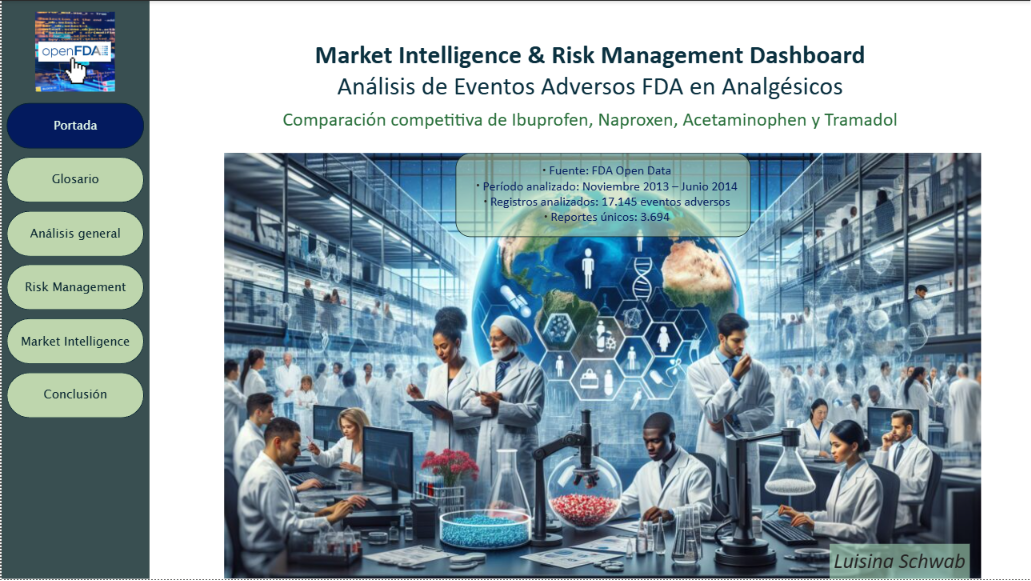

The dashboard page shown, as its layout file describes it:
{"tool":"powerbi","page":{"name":"Portada","canvas":[1280,720],"ordinal":0},"visuals":[{"type":"image","box":[273.7,189.1,947.9,529.9],"z":0},{"type":"shape","box":[0,0,184.1,719],"z":1000},{"type":"pageNavigator","box":[6.2,126.9,171.7,396.8],"z":2000},{"type":"textbox","box":[564.8,189.1,367,104.5],"z":3000},{"type":"image","box":[5,13.7,172.9,99.5],"z":4000},{"type":"textbox","box":[327.2,42.3,809.8,113.2],"z":5000},{"type":"textbox","box":[329.6,126.9,804.8,62.2],"z":6000},{"type":"textbox","box":[1030,675.5,174.2,44.8],"z":7000}]}

Visuals, with their boxes on the page's 1280x720 design canvas (x1, y1, x2, y2). These are canvas units, not pixel positions in the 1031x581 screenshot, which may show the page scaled, cropped or inside an application window:
image: x1=274 y1=189 x2=1222 y2=719
shape: x1=0 y1=0 x2=184 y2=719
pageNavigator: x1=6 y1=127 x2=178 y2=524
textbox: x1=565 y1=189 x2=932 y2=294
image: x1=5 y1=14 x2=178 y2=113
textbox: x1=327 y1=42 x2=1137 y2=156
textbox: x1=330 y1=127 x2=1134 y2=189
textbox: x1=1030 y1=676 x2=1204 y2=720
